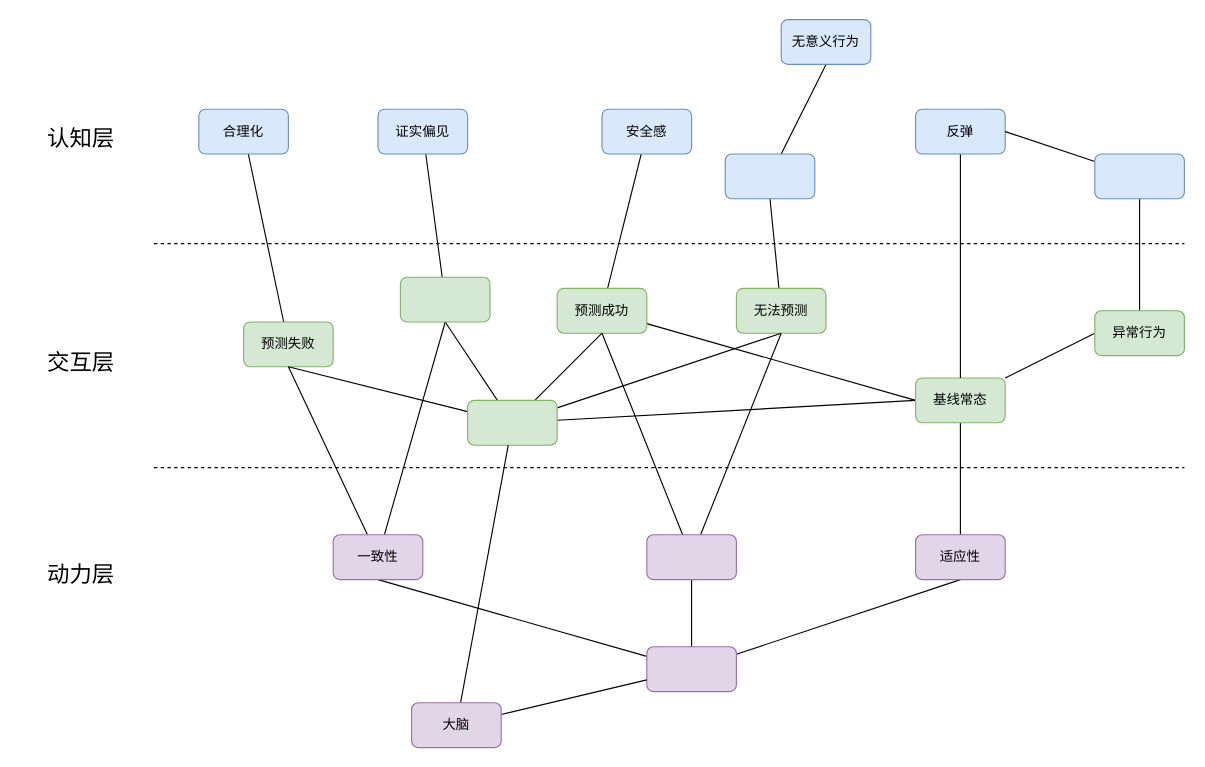
The diagram is 1205 pixels wide and 767 high, and some of its shapes have lost their labels. Each missing label, with the box of its shape:
剧烈改变: (1094, 153, 1184, 199)
焦虑: (724, 153, 815, 199)
确认性: (646, 534, 736, 580)
稳定: (646, 646, 736, 692)
预测模型: (466, 399, 557, 445)
预设立场: (399, 276, 490, 322)
